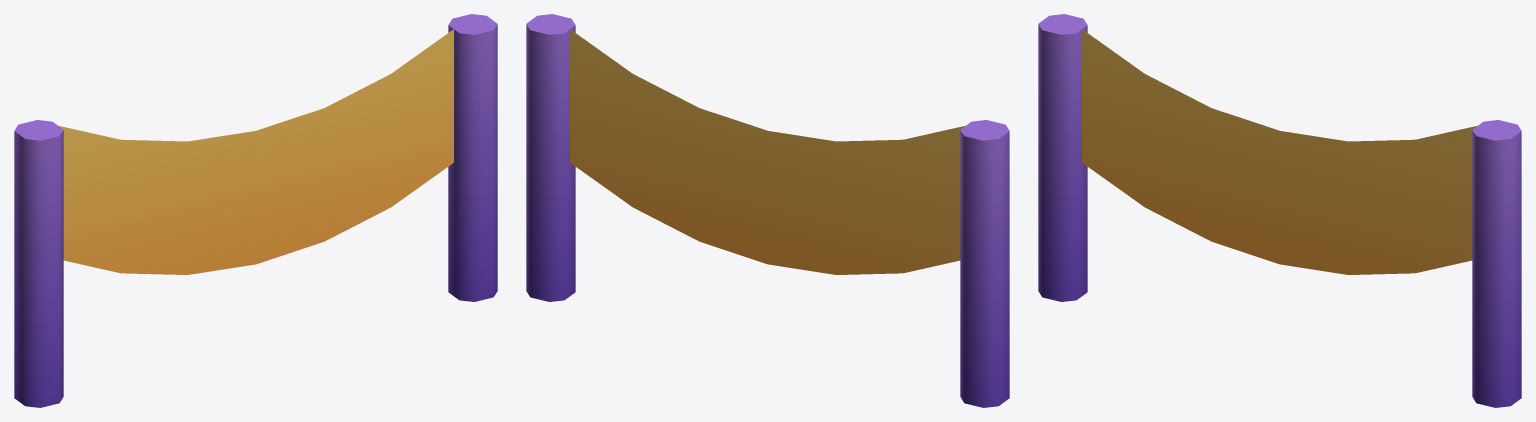
File: banner-hanging-col.glb
3 views of the same model, side by side, from view 1: azimuth 30°, elevation 25°; view 2: azimuth 150°, elevation 25°; view 3: azimuth 330°, elevation 25° (orthographic).
Visible parts, largest first — view 1: banner-hanging-col; view 2: banner-hanging-col; view 3: banner-hanging-col.
Boxes of the visible parts, x1,y1,x2,y2 form: banner-hanging-col: (14, 14, 497, 407); banner-hanging-col: (526, 14, 1009, 407); banner-hanging-col: (1038, 14, 1521, 407).
Bounding box in the file's own units: 0.925 × 0.5 × 0.075.
1 material, 1 textured.
